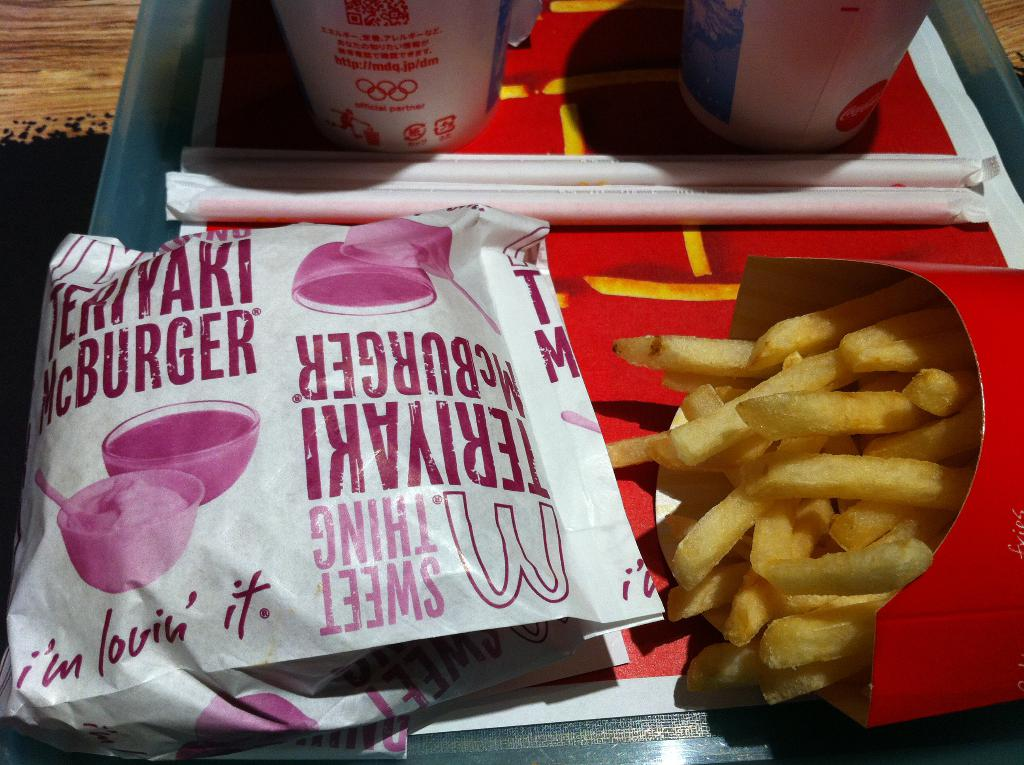French fries: (591, 289, 979, 726)
